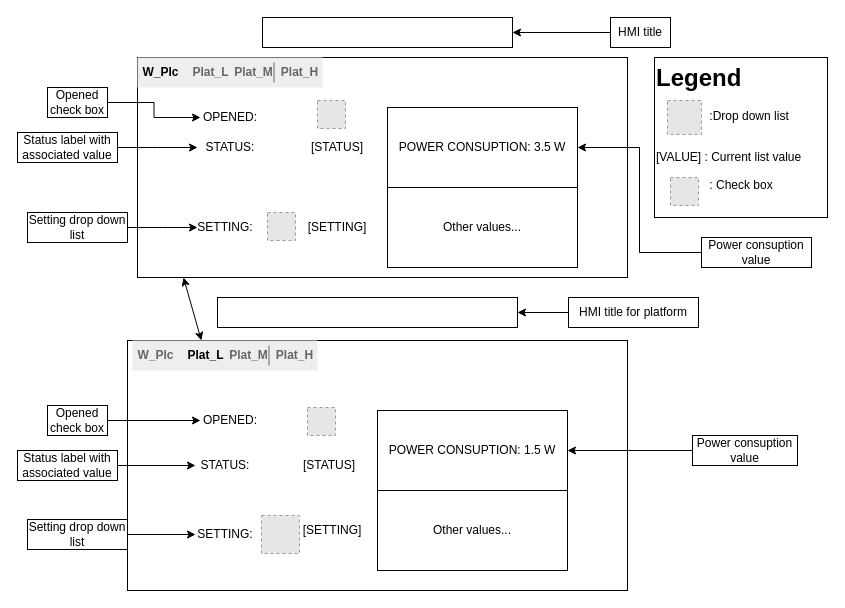
This 845x608 diagram has some shape labels left out. Grey dashed boxes stand in for pictures. Here are the shapes that lost their labels. From the top down, the centre of each, then its label:
At pixel 387 32: "PLC_name [PLC_ID]".
At pixel 367 312: "PLC_name/Platform_type [PLC_ID, PLATFORM_ID]".
